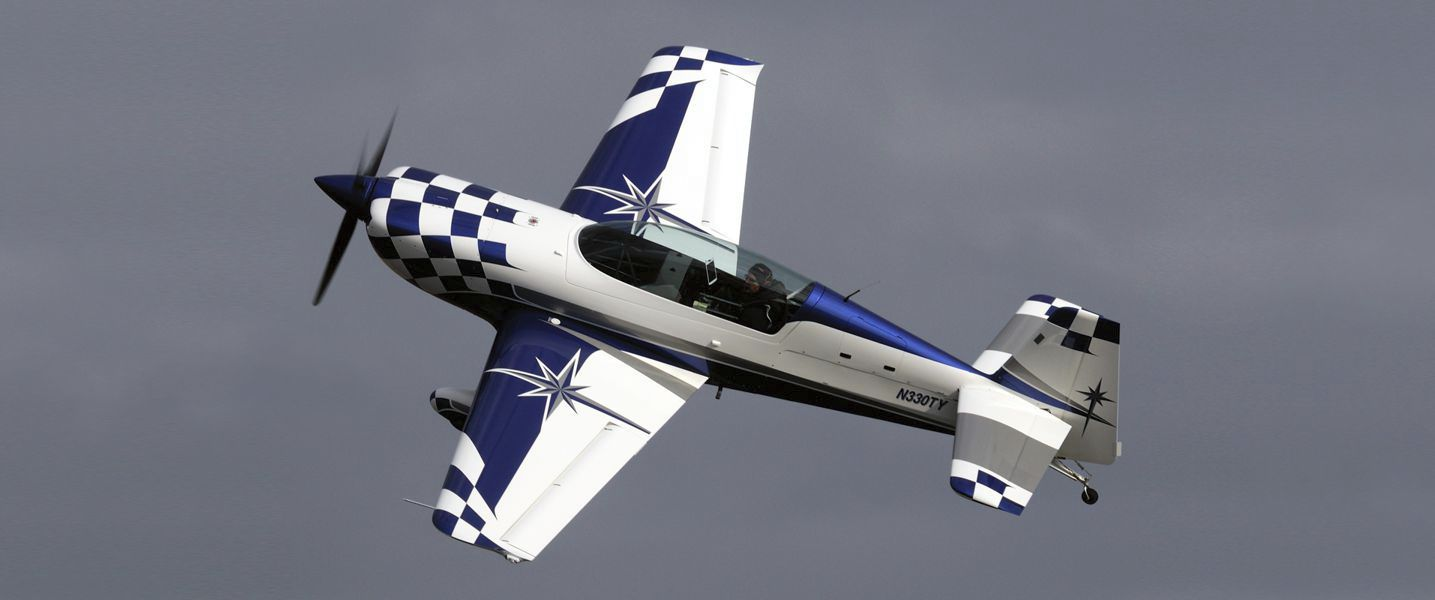Aeronef_de_loisir: (283, 29, 1183, 580)
